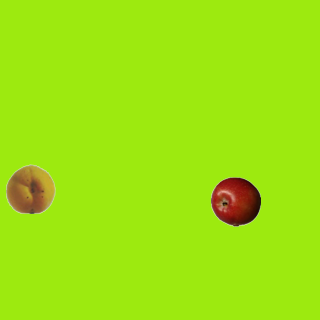Apple Braeburn: (210, 176, 260, 226)
Peach 2: (5, 163, 55, 213)
